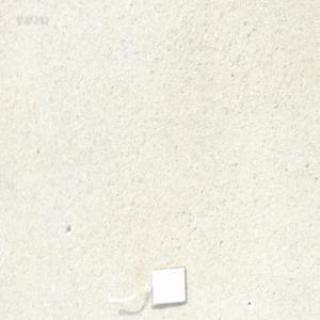LuggageTagtrack_idkeyframe: (102, 262, 184, 308)
